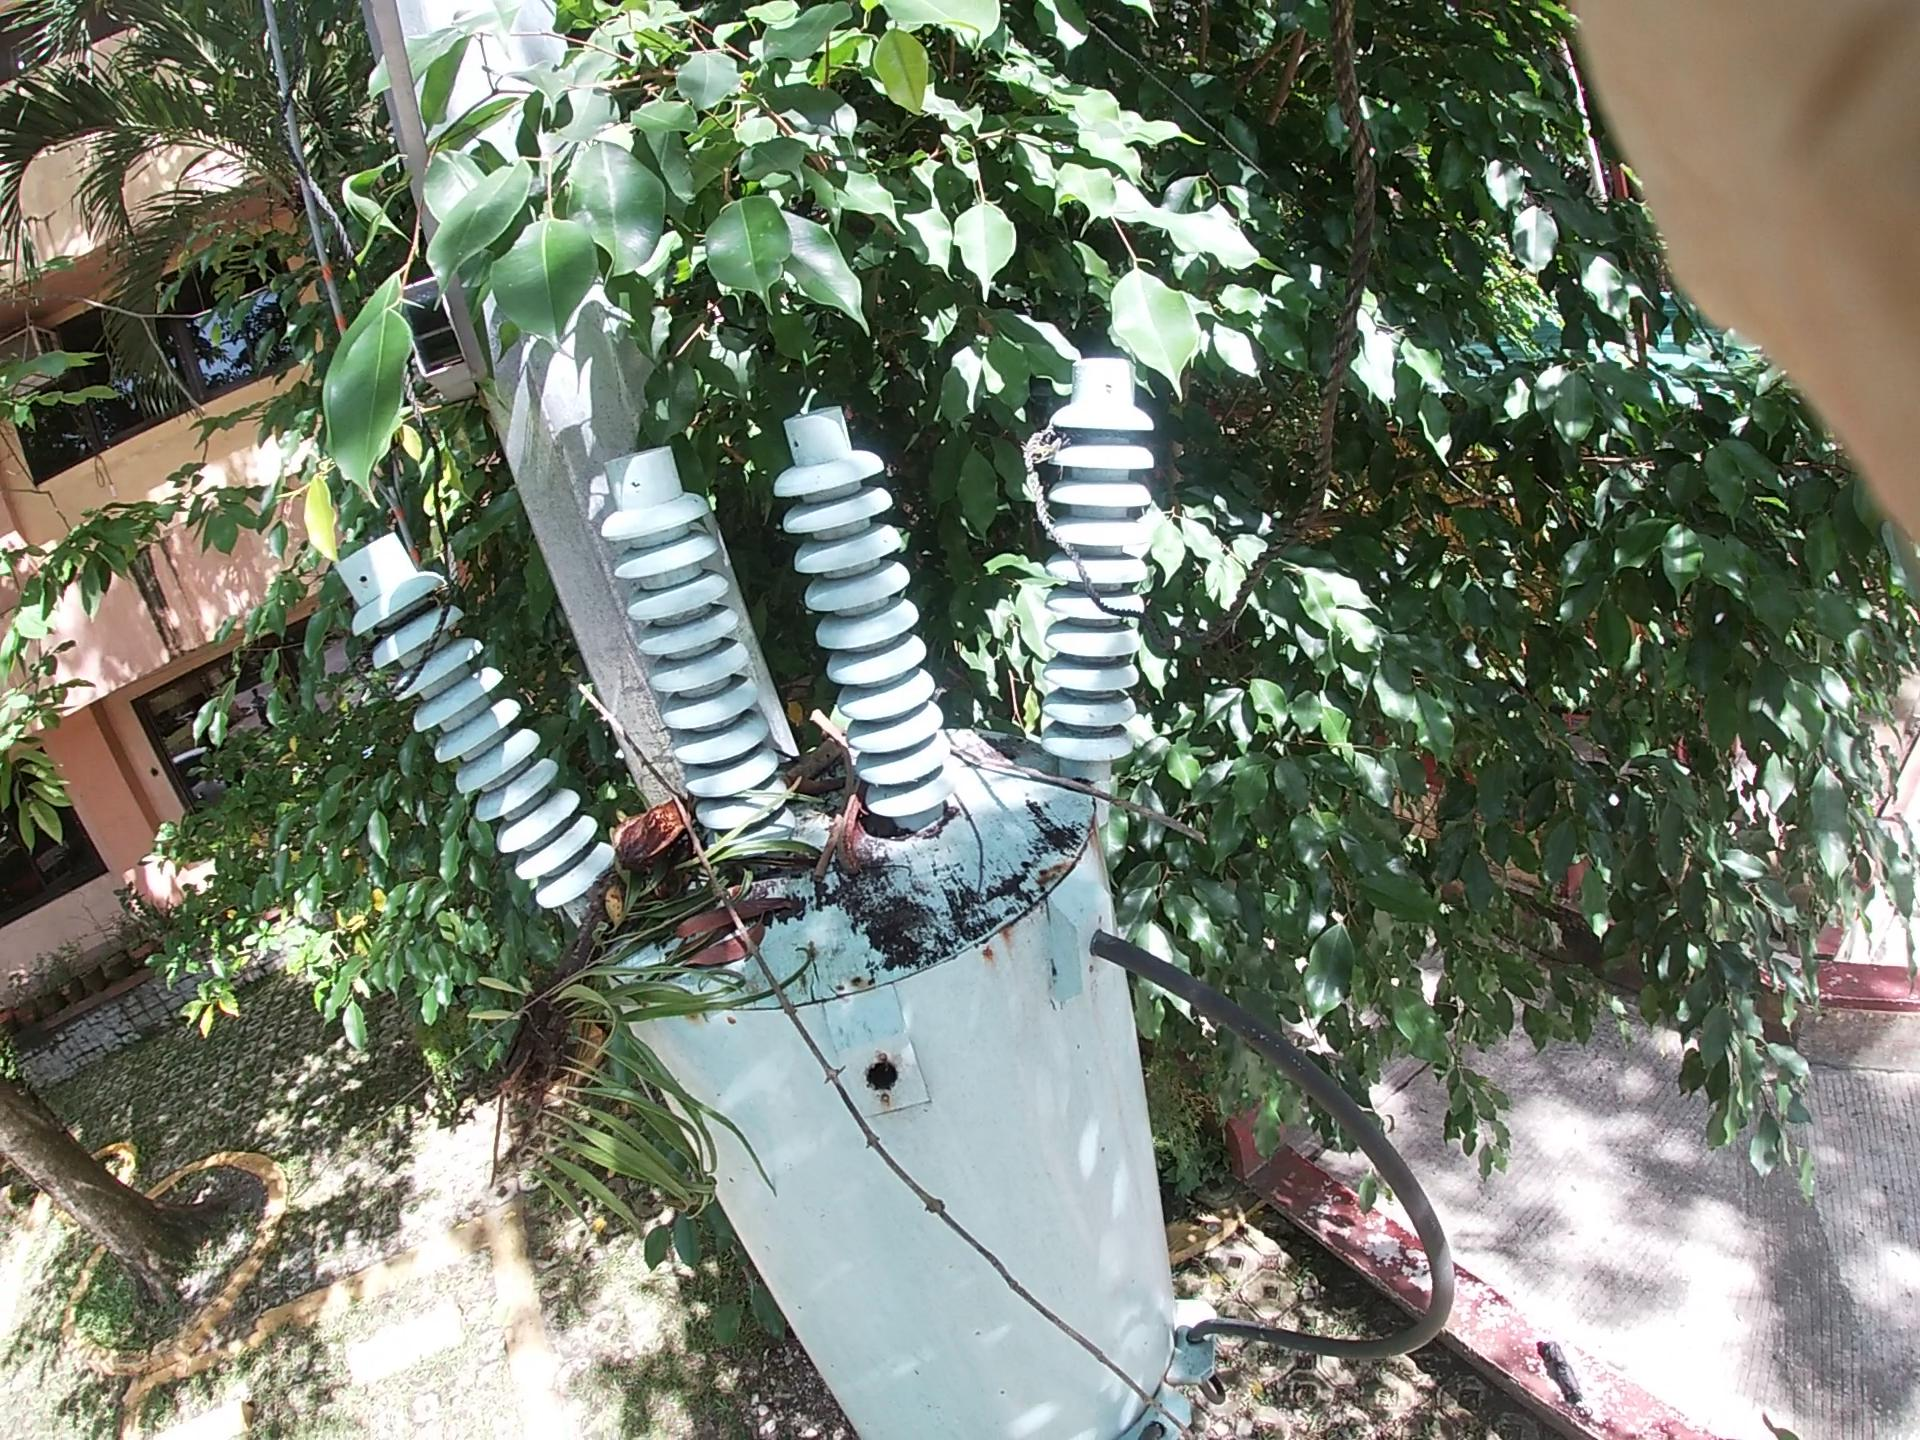branch with leaves: (429, 756, 803, 1186)
leaf: (652, 864, 773, 1015)
mahogany fruit: (584, 790, 801, 902), (804, 777, 989, 877)
tree branch: (593, 673, 1030, 1342), (937, 734, 1199, 886), (773, 697, 921, 924)
